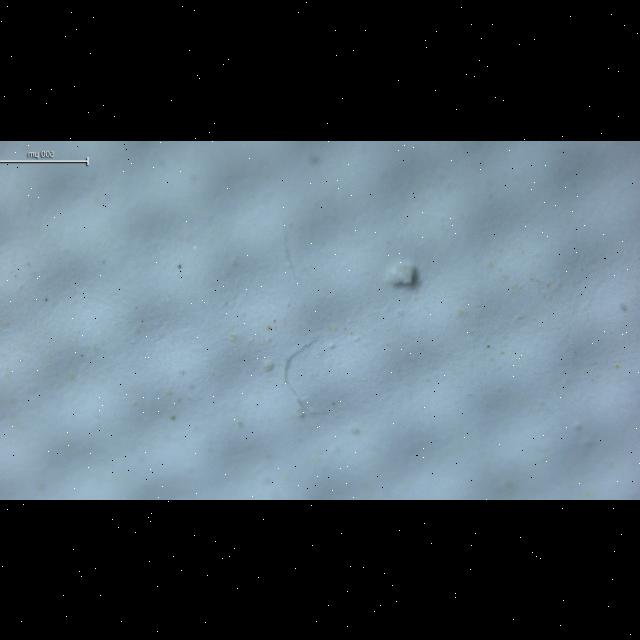Fibre: (284, 336, 318, 409)
Fragment: (388, 261, 416, 284)
